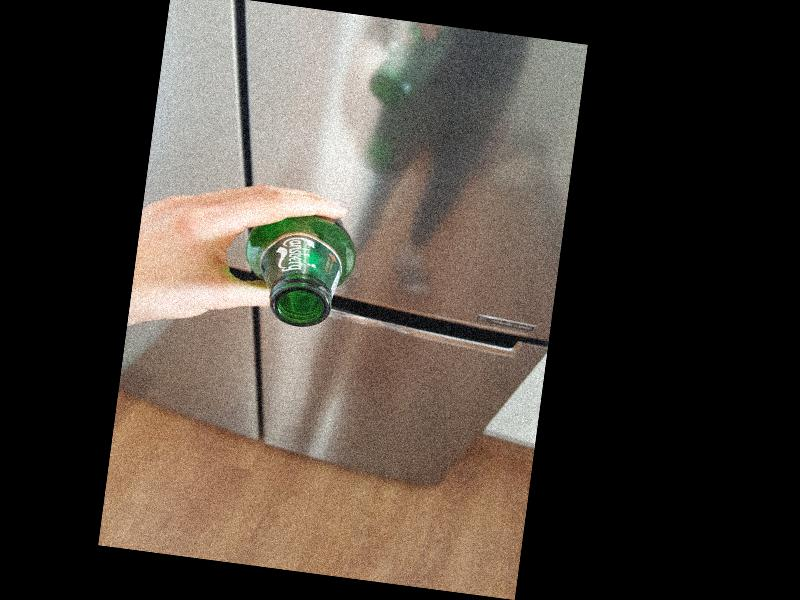Beer: (239, 206, 360, 333)
